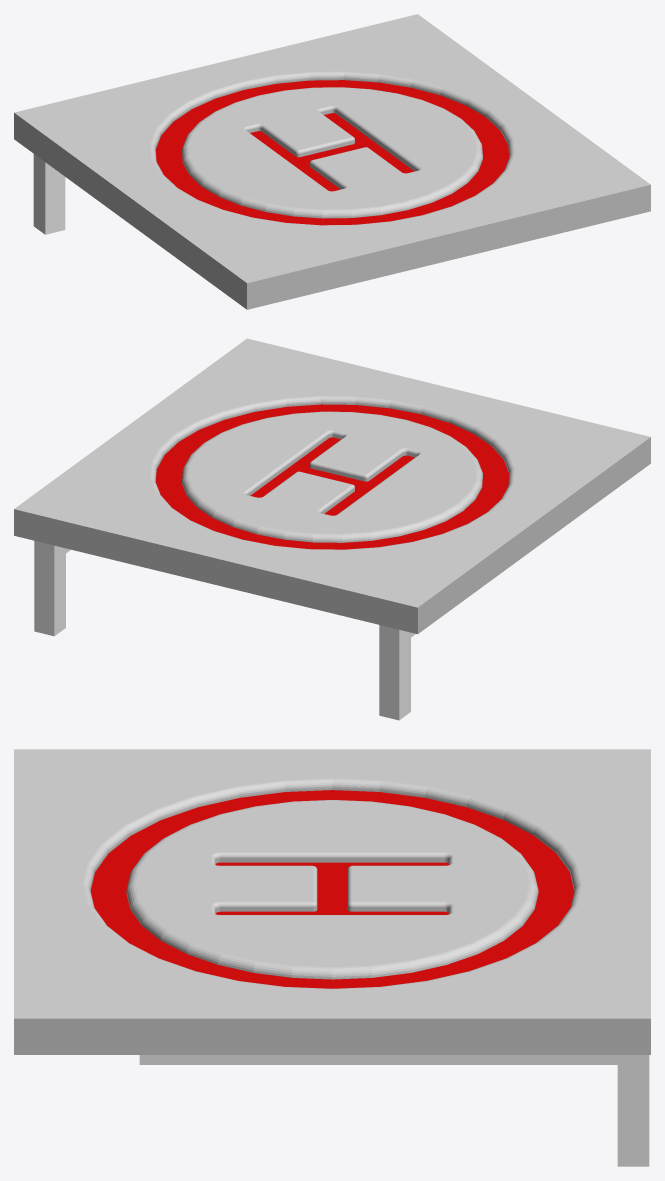
The model's file is PizzaPlaceStation.fbx.
3 renders of one model, top to bottom at view 1: azimuth 30°, elevation 25°; view 2: azimuth 150°, elevation 25°; view 3: azimuth 270°, elevation 25°, orthographic. The views are drawn at different scales.
Visible parts, largest first — view 1: PizzaPlaceStation, Cube.009; view 2: PizzaPlaceStation, Cube.008, Cube.009; view 3: PizzaPlaceStation, Cube.008.
Boxes of the visible parts, x1,y1,x2,y2 form: PizzaPlaceStation: (14,14,650,309); Cube.009: (33,154,65,234); PizzaPlaceStation: (14,338,650,634); Cube.008: (34,541,70,636); Cube.009: (379,625,415,720); PizzaPlaceStation: (14,749,650,1054); Cube.008: (139,1055,649,1166).
Size of the model in its own units: 317 by 88.64 by 317.
